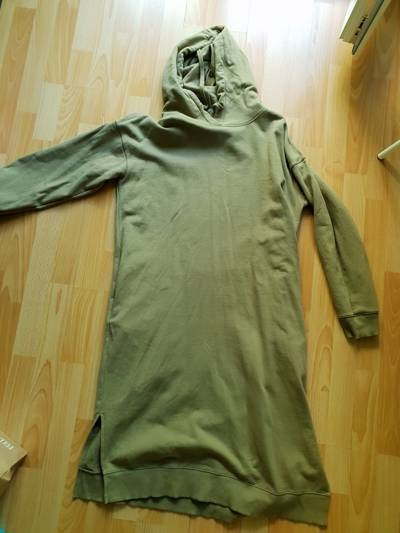Hoodie: (2, 34, 389, 532)
